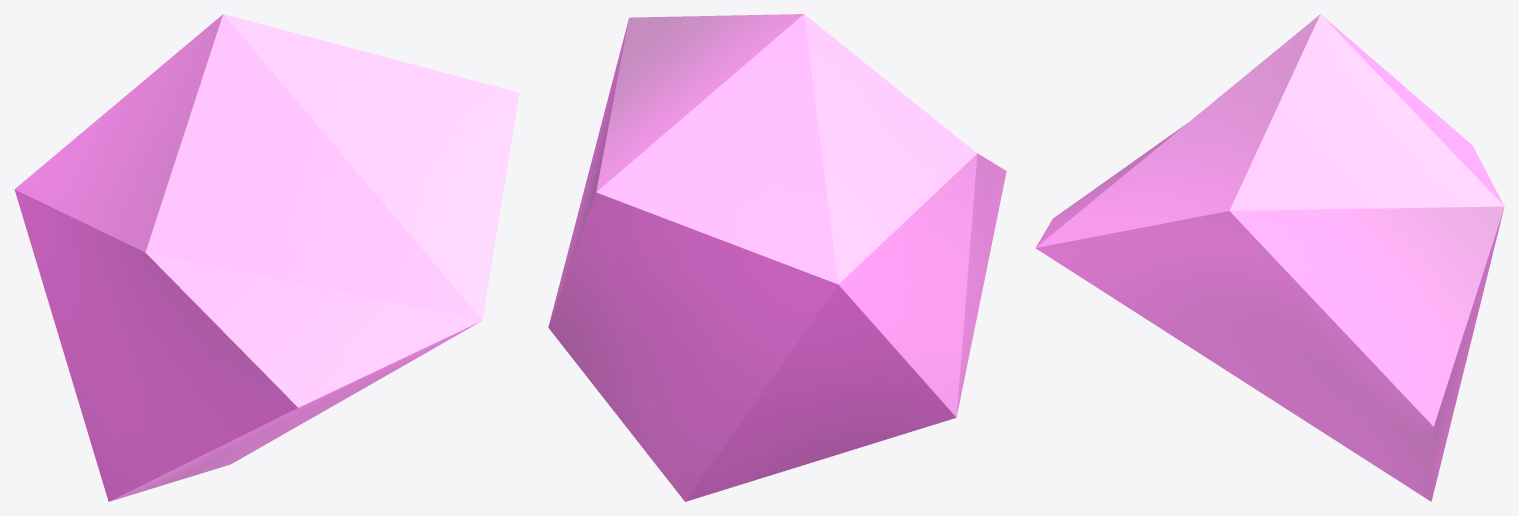
The model's file is Cristal_gem.011.fbx.
3 views of the same model, side by side, from view 1: azimuth 30°, elevation 25°; view 2: azimuth 150°, elevation 25°; view 3: azimuth 270°, elevation 25° (orthographic). The views are drawn at different scales.
Visible parts, largest first — view 1: Crystal_gem.011; view 2: Crystal_gem.011; view 3: Crystal_gem.011.
Boxes of the visible parts, <box> form: Crystal_gem.011: <box>14,14,519,501</box>; Crystal_gem.011: <box>548,14,1006,501</box>; Crystal_gem.011: <box>1035,14,1504,501</box>.
Bounding box in the file's own units: 96.62 × 122 × 114.
